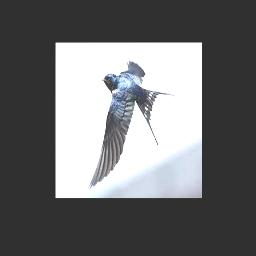Swallow: (87, 59, 175, 190)
